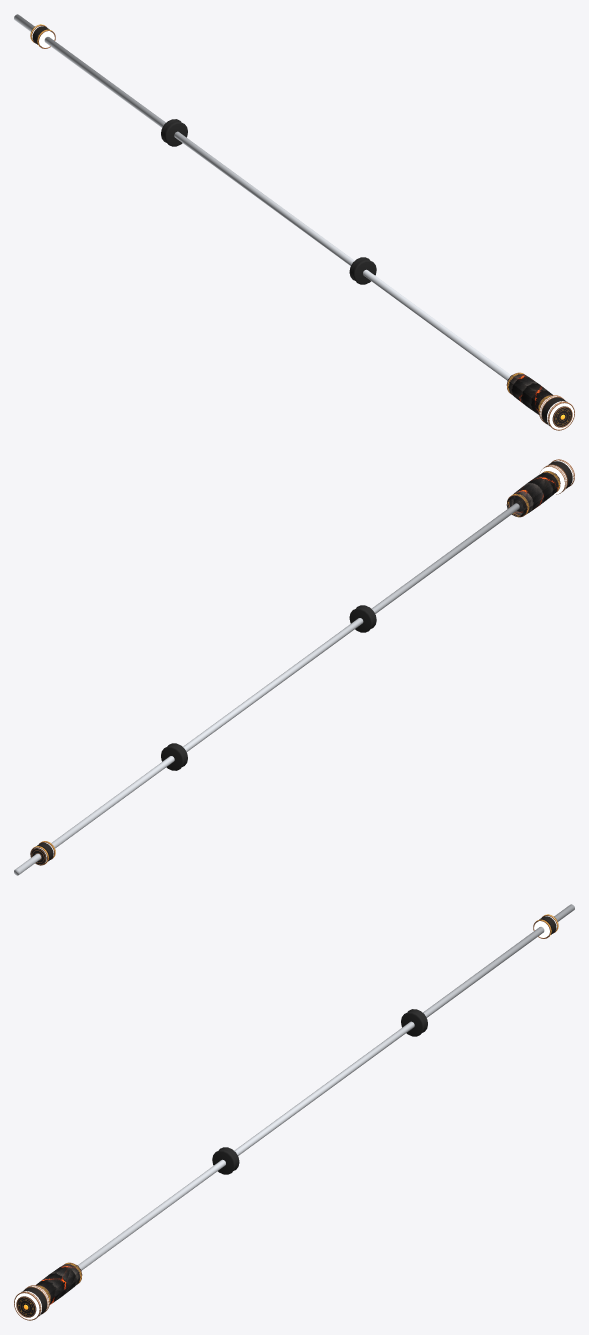
The model's file is fuzeball_rod_1man.glb.
3 renders of one model, top to bottom at view 1: azimuth 30°, elevation 25°; view 2: azimuth 150°, elevation 25°; view 3: azimuth 330°, elevation 25°, orthographic.
Parts seen in each view (by area): view 1: rod1_bar.002, rod1_handle_solar; view 2: rod1_bar.002, rod1_handle_solar; view 3: rod1_bar.002, rod1_handle_solar.
Boxes of the visible parts, x1,y1,x2,y2 form: rod1_bar.002: (14,14,511,380); rod1_handle_solar: (506,373,552,414); rod1_bar.002: (14,503,519,875); rod1_handle_solar: (506,472,560,516); rod1_bar.002: (77,904,574,1270); rod1_handle_solar: (36,1263,82,1304).
Bounding box in the file's own units: 3.49 × 3.49 × 125.
Materials: 7 (1 with a texture image).
